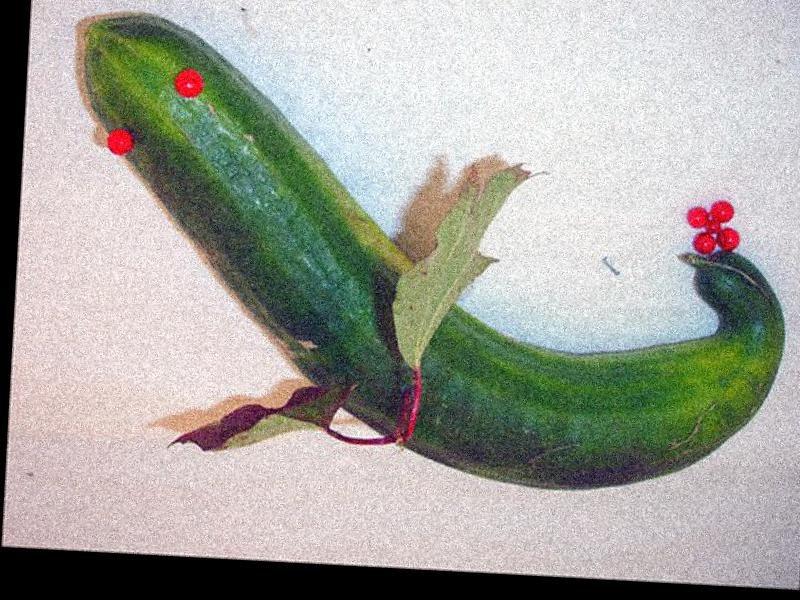Cucumber: (60, 12, 799, 501)
